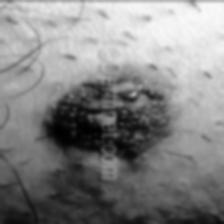Potentially Malignant Skin Tumors: (50, 74, 181, 154)
